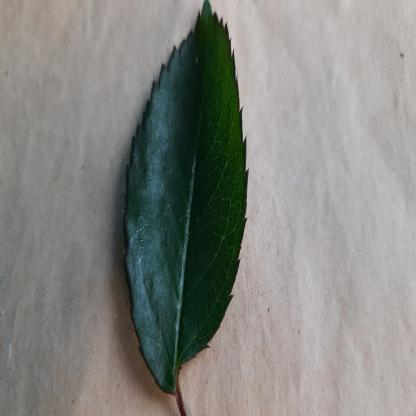normal: (125, 6, 251, 382)
